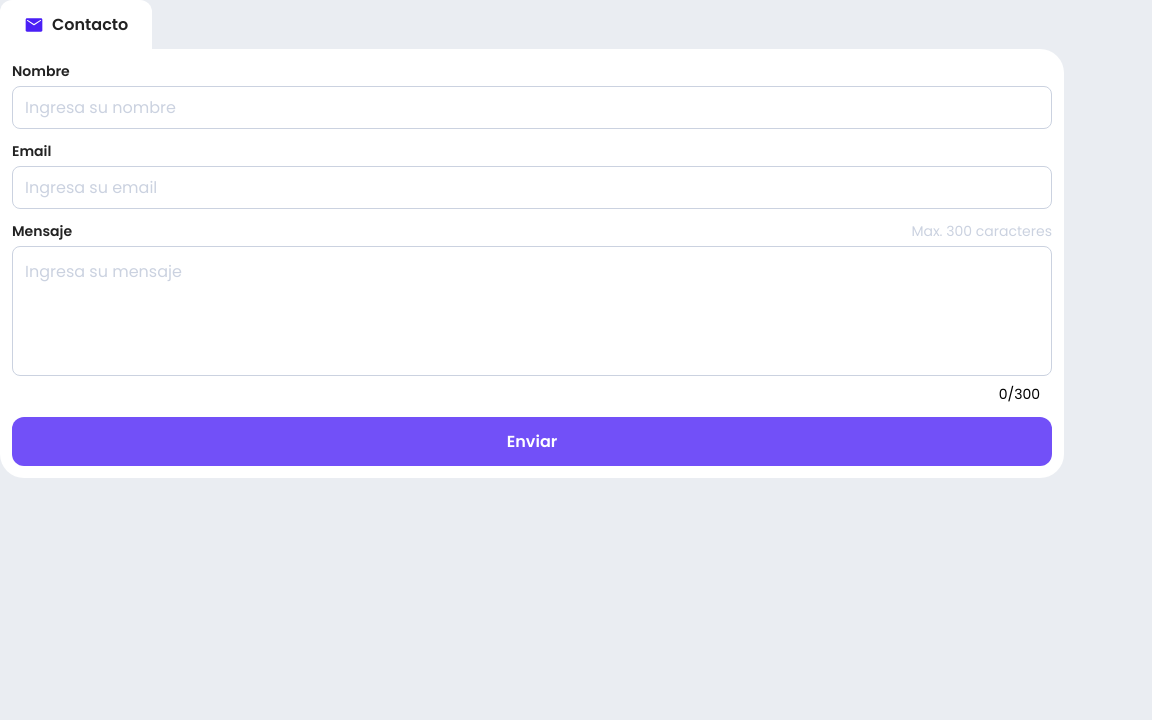
Scenario: ContactForm component › displays validation errors correctly
Click the button "Enviar": x=532, y=442 [12, 417, 1052, 466]
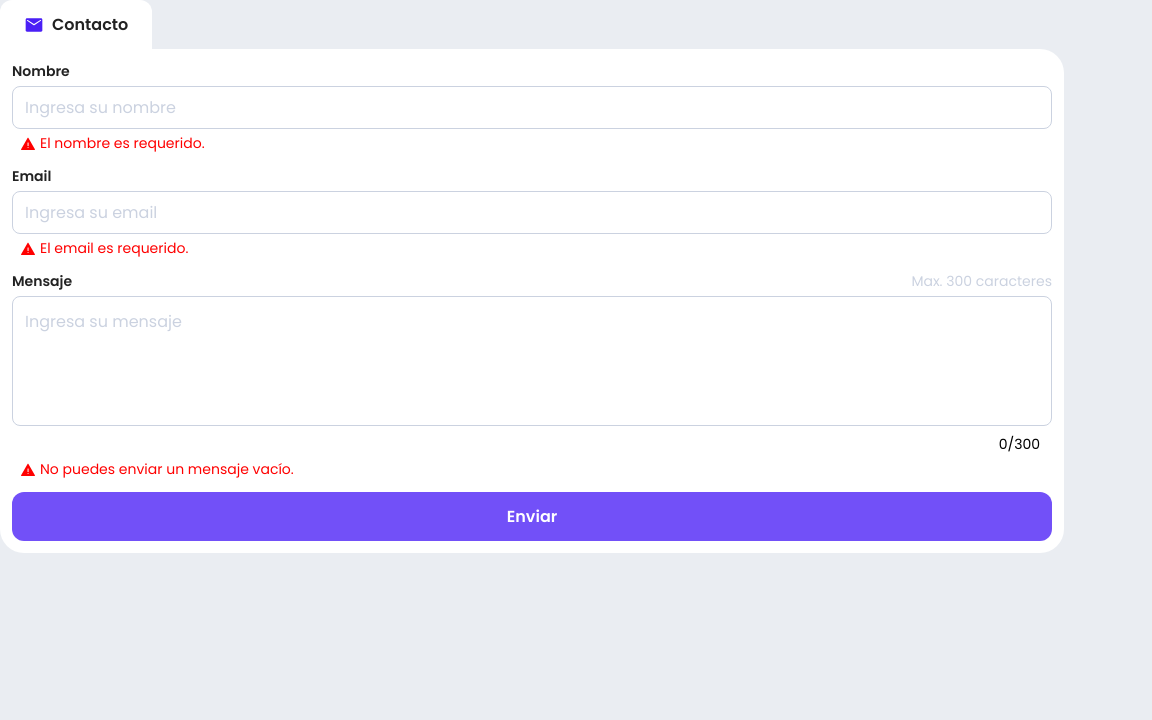
expect the text "El nombre es requerido." is shown: met, box [20, 133, 205, 153]
expect the text "El email es requerido." is shown: met, box [20, 238, 188, 258]
expect the text "No puedes enviar un mensaje vacío." is shown: met, box [20, 459, 294, 479]
